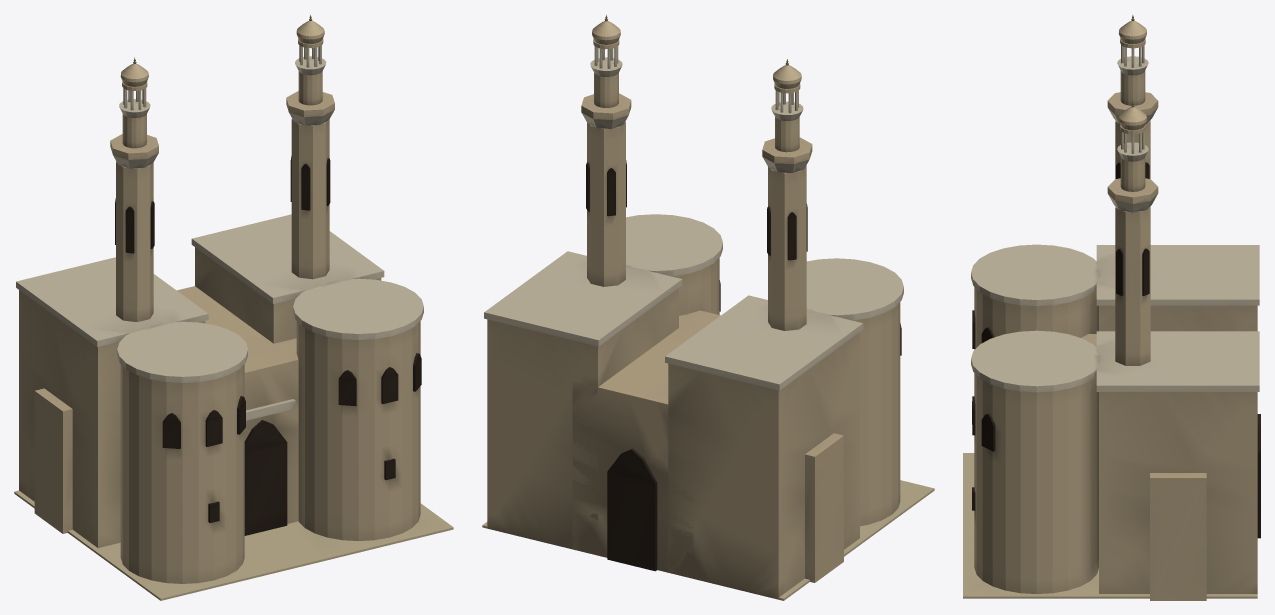
The model's file is bab-zuwayla-1600.glb.
The picture shows the model from 3 angles, left to right: view 1: azimuth 30°, elevation 25°; view 2: azimuth 150°, elevation 25°; view 3: azimuth 270°, elevation 25°; orthographic projection. The views are drawn at different scales.
Parts seen in each view (by area): view 1: p1_gate, p2_minarets, p0_ground; view 2: p1_gate, p2_minarets, p0_ground; view 3: p1_gate, p2_minarets, p0_ground.
Boxes of the visible parts, x1,y1,x2,y2 form: p1_gate: [16, 214, 423, 583]; p2_minarets: [110, 15, 334, 321]; p0_ground: [14, 388, 453, 600]; p1_gate: [484, 214, 903, 599]; p2_minarets: [581, 14, 812, 330]; p0_ground: [482, 433, 934, 600]; p1_gate: [971, 244, 1260, 593]; p2_minarets: [1107, 15, 1158, 365]; p0_ground: [963, 453, 1257, 600].
Bounding box in the file's own units: 31 × 45.77 × 26.3.
